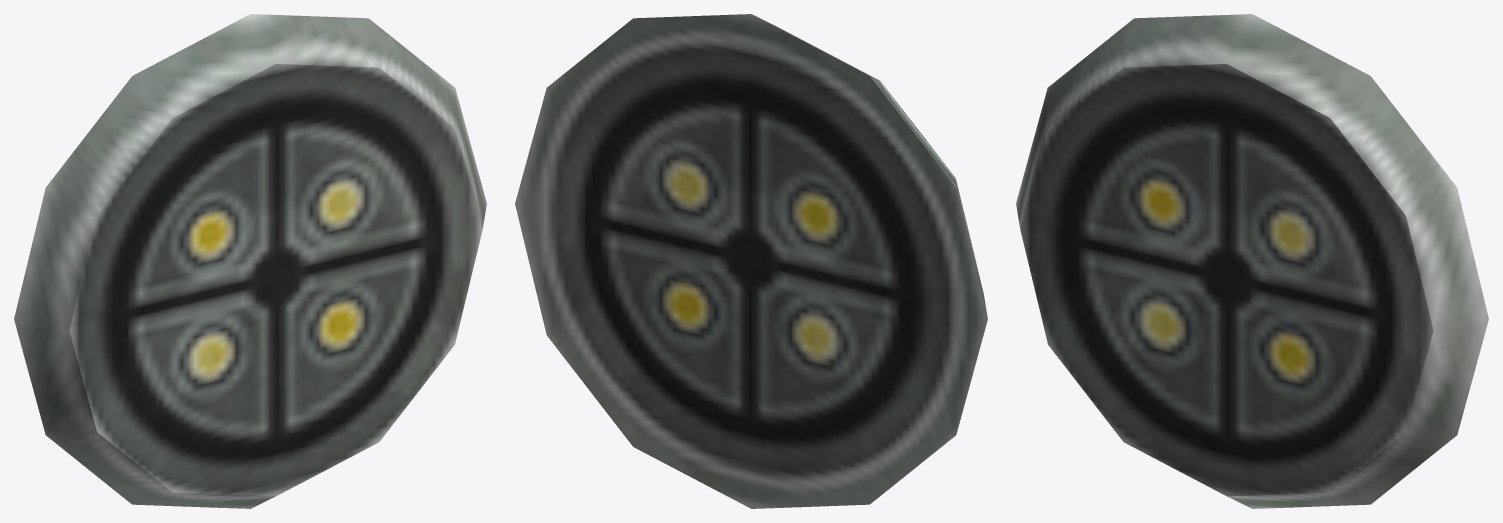
File: BoxSideRound.FBX
The picture shows the model from 3 angles, left to right: view 1: azimuth 30°, elevation 25°; view 2: azimuth 150°, elevation 25°; view 3: azimuth 330°, elevation 25°; orthographic projection.
Parts seen in each view (by area): view 1: BoxSideRound; view 2: BoxSideRound; view 3: BoxSideRound.
Boxes of the visible parts, x1,y1,x2,y2 form: BoxSideRound: [14, 14, 486, 508]; BoxSideRound: [515, 14, 987, 508]; BoxSideRound: [1016, 14, 1488, 508].
Bounding box in the file's own units: 107 × 107 × 10.02.
